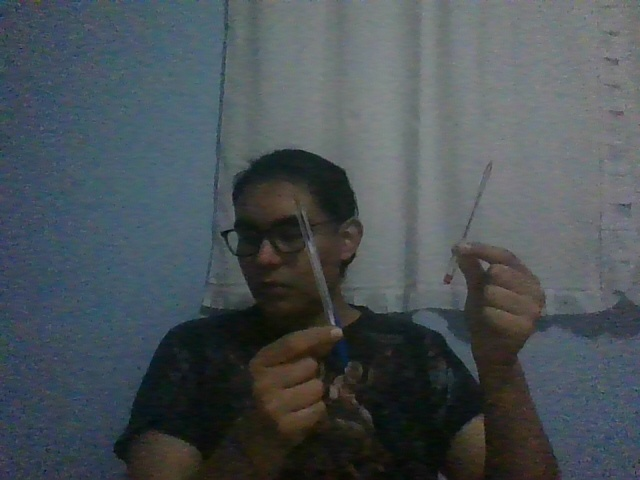pluma: (292, 193, 348, 369), (442, 158, 494, 284)
